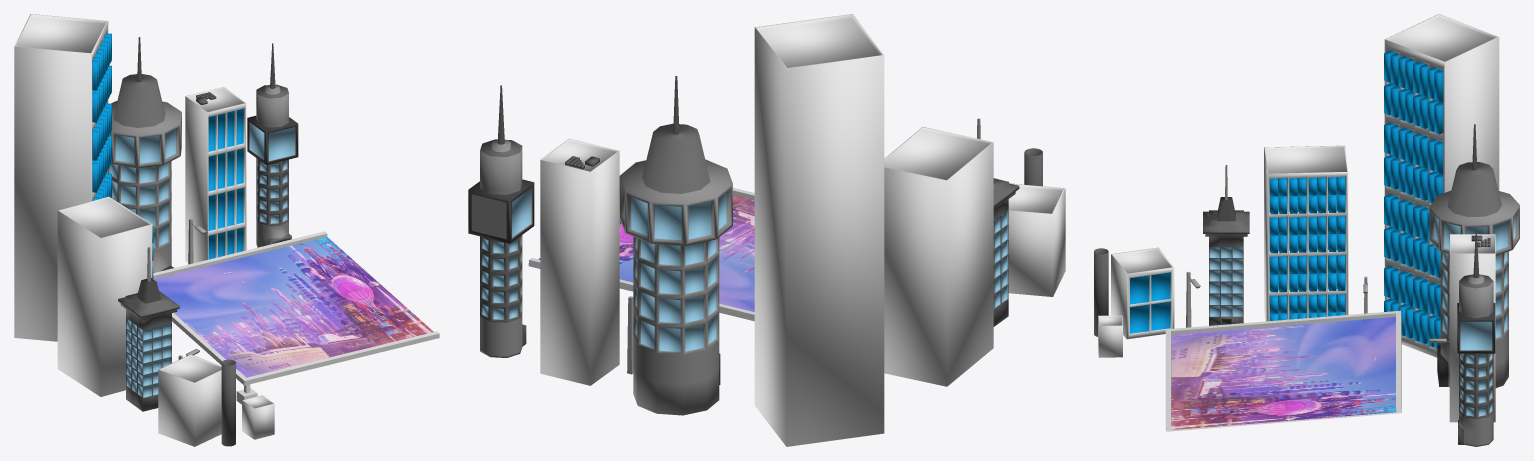
Rendered from ch03_right.fbx.
The picture shows the model from 3 angles, left to right: view 1: azimuth 30°, elevation 25°; view 2: azimuth 150°, elevation 25°; view 3: azimuth 270°, elevation 25°; orthographic projection. The views are drawn at different scales.
Parts seen in each view (by area): view 1: Ch03_Left; view 2: Ch03_Left; view 3: Ch03_Left.
Part boxes in pixels (x1,y1,x2,y2): Ch03_Left: (14, 14, 439, 446); Ch03_Left: (468, 14, 1065, 446); Ch03_Left: (1094, 14, 1519, 446).
Bounding box in the file's own units: 15.13 × 14.26 × 18.44.
